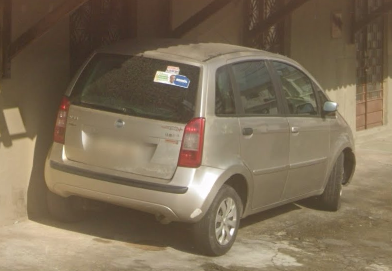car: (48, 35, 357, 256)
